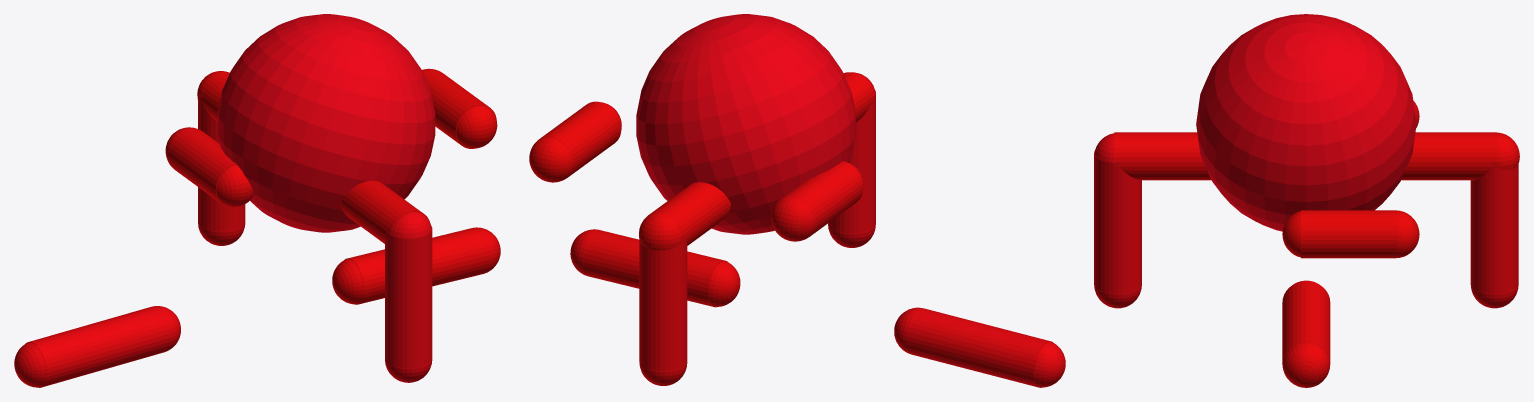
The model's file is ant.glb.
3 views of the same model, side by side, from view 1: azimuth 30°, elevation 25°; view 2: azimuth 150°, elevation 25°; view 3: azimuth 270°, elevation 25° (orthographic).
Parts seen in each view (by area): view 1: Sphere, Sphere.004, Sphere.001, Sphere.002, Limb1.003, Limb1.002, Limb1.001, Sphere.003, Limb1; view 2: Sphere, Sphere.004, Sphere.003, Sphere.002, Limb1.002, Limb1.003, Limb1, Sphere.001, Limb1.001; view 3: Sphere, Sphere.001, Sphere.003, Limb1.002, Limb1, Sphere.002, Limb1.001.
Part boxes in pixels (x1=…): Sphere: x1=217, y1=14, x2=435, y2=232; Sphere.004: x1=14, y1=306, x2=180, y2=387; Sphere.001: x1=385, y1=212, x2=432, y2=382; Sphere.002: x1=332, y1=227, x2=500, y2=304; Limb1.003: x1=165, y1=127, x2=253, y2=207; Limb1.002: x1=422, y1=68, x2=497, y2=148; Limb1.001: x1=341, y1=180, x2=429, y2=243; Sphere.003: x1=198, y1=95, x2=245, y2=245; Limb1: x1=197, y1=71, x2=229, y2=121; Sphere: x1=636, y1=14, x2=855, y2=234; Sphere.004: x1=894, y1=307, x2=1065, y2=387; Sphere.003: x1=639, y1=234, x2=687, y2=385; Sphere.002: x1=570, y1=229, x2=740, y2=307; Limb1.002: x1=529, y1=101, x2=621, y2=182; Limb1.003: x1=771, y1=161, x2=863, y2=241; Limb1: x1=639, y1=182, x2=730, y2=250; Sphere.001: x1=828, y1=72, x2=875, y2=247; Limb1.001: x1=843, y1=72, x2=874, y2=122; Sphere: x1=1196, y1=14, x2=1416, y2=231; Sphere.001: x1=1094, y1=133, x2=1141, y2=308; Sphere.003: x1=1470, y1=162, x2=1518, y2=308; Limb1.002: x1=1282, y1=210, x2=1419, y2=258; Limb1: x1=1401, y1=132, x2=1519, y2=180; Sphere.002: x1=1282, y1=280, x2=1330, y2=387; Limb1.001: x1=1113, y1=132, x2=1211, y2=180.
Bounding box in the file's own units: 3 × 1.72 × 2.28.
